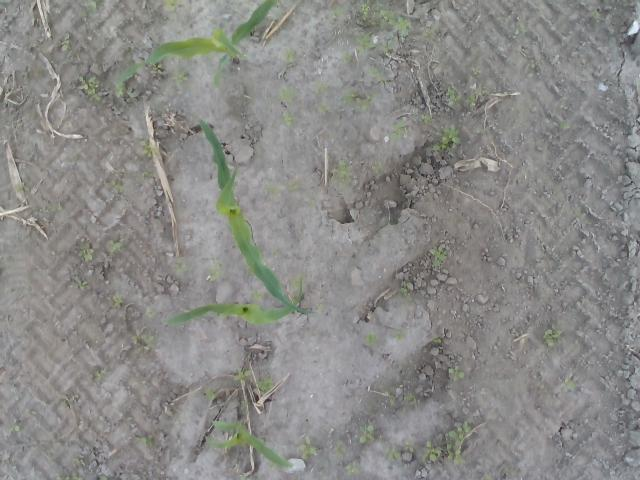Maize: (198, 115, 318, 317), (113, 0, 280, 91), (164, 287, 306, 327), (202, 414, 292, 469)
Weeds: (418, 422, 472, 466), (352, 0, 410, 37), (339, 86, 379, 112), (432, 127, 462, 158), (76, 73, 104, 101), (446, 86, 476, 109), (334, 158, 354, 192), (350, 421, 377, 444), (130, 335, 161, 354), (294, 436, 318, 460), (277, 78, 299, 104), (384, 119, 410, 141), (207, 256, 226, 284), (354, 31, 376, 55), (134, 134, 156, 158), (428, 243, 448, 268), (366, 64, 388, 86), (30, 201, 64, 215), (170, 68, 193, 88), (261, 182, 284, 201), (21, 63, 45, 81), (77, 240, 96, 262), (174, 255, 193, 275), (382, 444, 402, 463), (79, 0, 101, 17), (134, 435, 160, 449), (542, 327, 560, 347), (162, 0, 186, 15), (233, 368, 253, 384), (110, 239, 128, 256), (70, 272, 88, 289), (278, 111, 296, 128), (448, 365, 464, 384), (392, 326, 410, 342), (254, 377, 273, 392), (336, 50, 356, 64), (115, 86, 136, 99), (110, 291, 126, 308), (280, 48, 297, 64), (364, 330, 380, 346), (369, 160, 385, 176), (560, 376, 576, 392), (399, 280, 414, 296), (110, 178, 126, 193), (345, 463, 363, 476), (95, 368, 111, 382), (54, 472, 82, 480), (204, 386, 219, 400), (418, 112, 433, 126), (403, 438, 416, 454), (318, 79, 330, 96), (14, 182, 31, 194), (386, 386, 396, 406), (8, 418, 22, 432), (142, 308, 158, 320), (514, 22, 530, 34), (286, 180, 300, 193), (150, 63, 164, 75), (334, 446, 348, 458), (425, 24, 441, 34), (316, 102, 330, 113), (402, 392, 417, 402), (254, 290, 266, 302), (334, 6, 347, 17), (290, 276, 300, 290), (558, 120, 571, 129), (431, 335, 441, 346), (526, 63, 536, 73), (72, 456, 84, 464), (97, 473, 110, 480), (383, 38, 392, 48), (143, 168, 153, 177), (240, 398, 248, 408), (62, 40, 70, 49), (238, 473, 248, 480), (272, 250, 280, 257)
